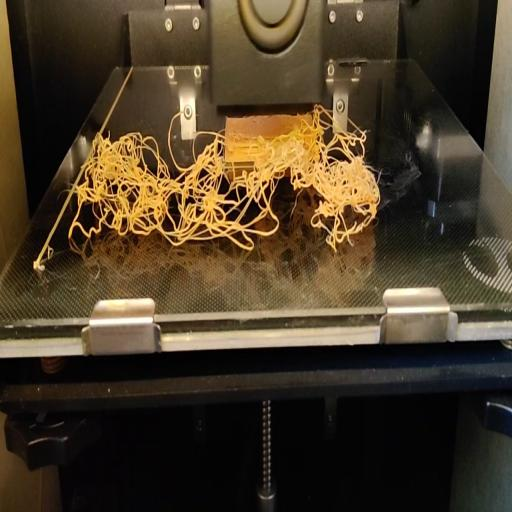spaghetti: (66, 111, 216, 249), (277, 107, 385, 255), (217, 129, 277, 256)
